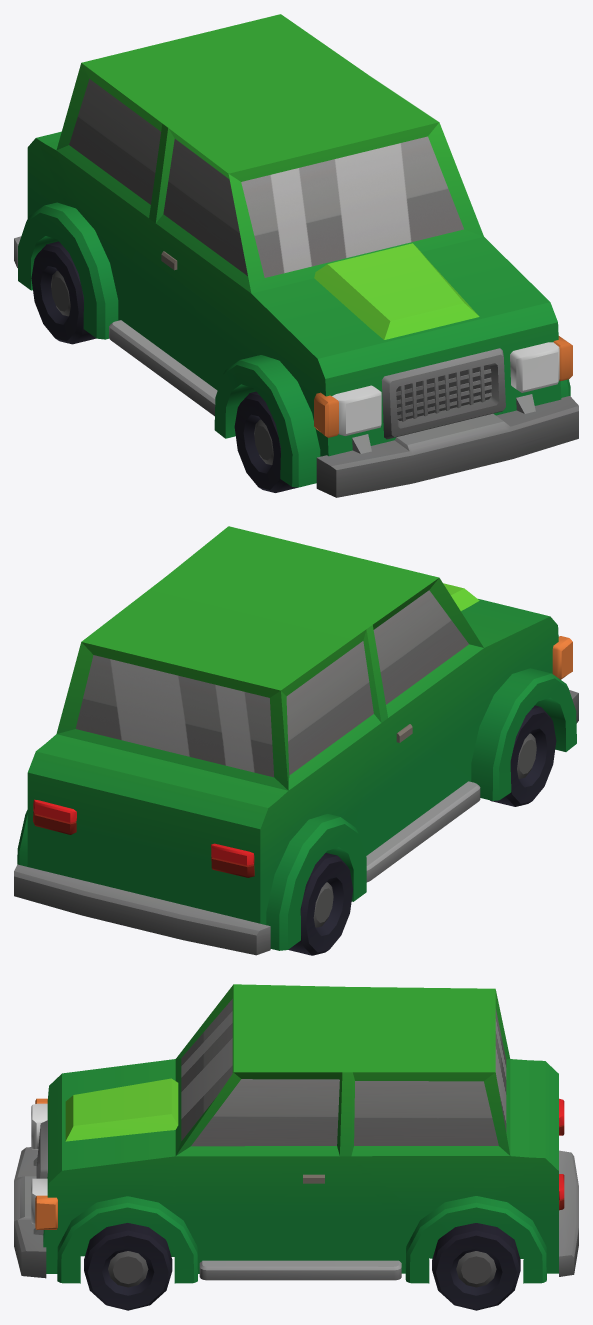
Rendered from Car_3_7.glb.
3 renders of one model, top to bottom at view 1: azimuth 30°, elevation 25°; view 2: azimuth 150°, elevation 25°; view 3: azimuth 270°, elevation 25°, orthographic. The views are drawn at different scales.
Visible parts, largest first — view 1: Car_3_7, Wheel_Br, Wheel_Fr; view 2: Car_3_7, Wheel_Br, Wheel_Fr; view 3: Car_3_7, Wheel_Bl, Wheel_Fl.
Boxes of the visible parts, box(x1,y1,x2,y2) form: Car_3_7: box(14, 14, 578, 497); Wheel_Br: box(31, 241, 96, 344); Wheel_Fr: box(234, 391, 297, 492); Car_3_7: box(14, 526, 578, 955); Wheel_Br: box(288, 853, 353, 955); Wheel_Fr: box(490, 705, 556, 806); Car_3_7: box(14, 984, 578, 1283); Wheel_Bl: box(432, 1223, 520, 1310); Wheel_Fl: box(84, 1223, 172, 1310).
Bounding box in the file's own units: 1.13 × 1.02 × 2.3.
Materials: 6 (6 with a texture image).
